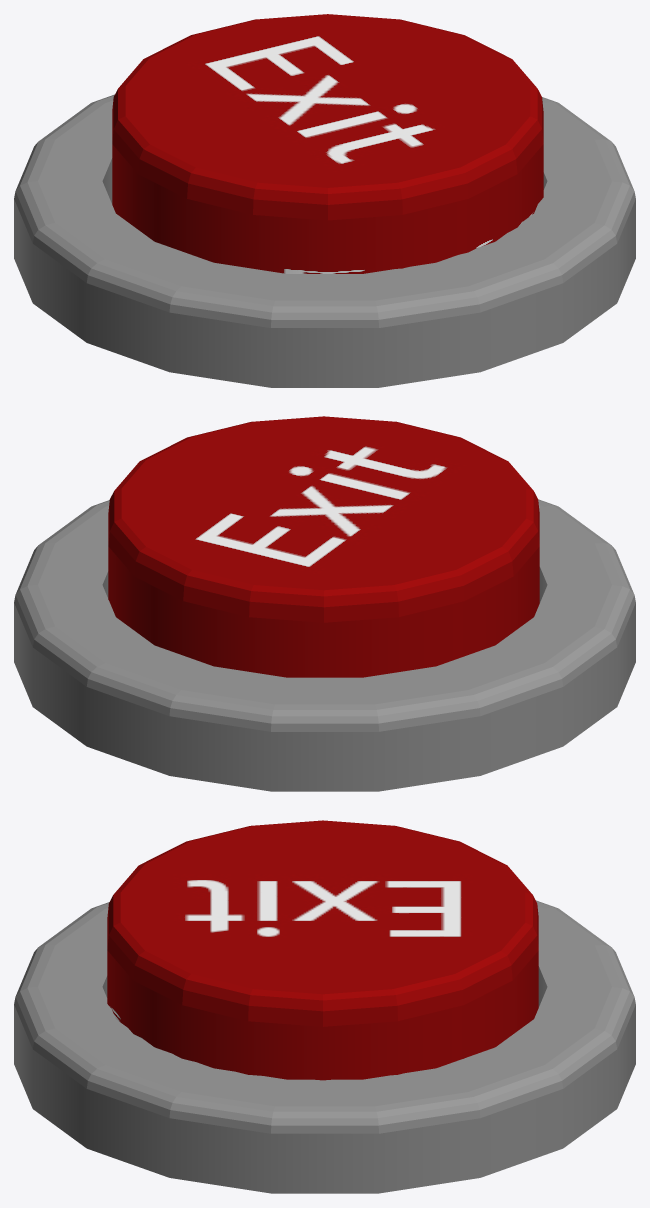
File: Button.FBX
The picture shows the model from 3 angles, top to bottom: view 1: azimuth 30°, elevation 25°; view 2: azimuth 150°, elevation 25°; view 3: azimuth 270°, elevation 25°; orthographic projection.
Parts seen in each view (by area): view 1: Cylinder001, Tube001; view 2: Cylinder001, Tube001; view 3: Cylinder001, Tube001.
Part boxes in pixels (x1,y1,x2,y2): Cylinder001: (112, 14, 543, 273); Tube001: (14, 94, 635, 387); Cylinder001: (108, 416, 539, 677); Tube001: (14, 499, 635, 791); Cylinder001: (107, 820, 538, 1080); Tube001: (14, 900, 635, 1193).
Size of the model in its own units: 17.63 by 5 by 17.91.
2 materials, 1 textured.
